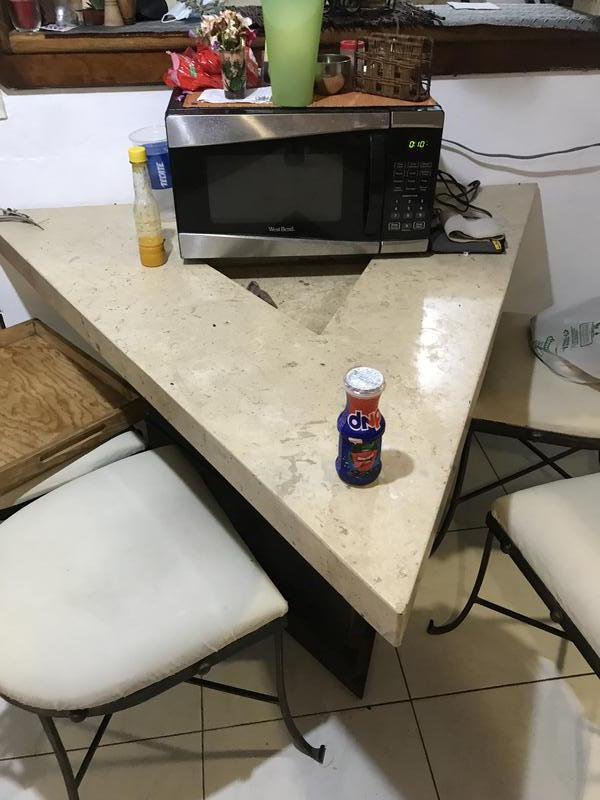danup: (341, 368, 387, 488)
